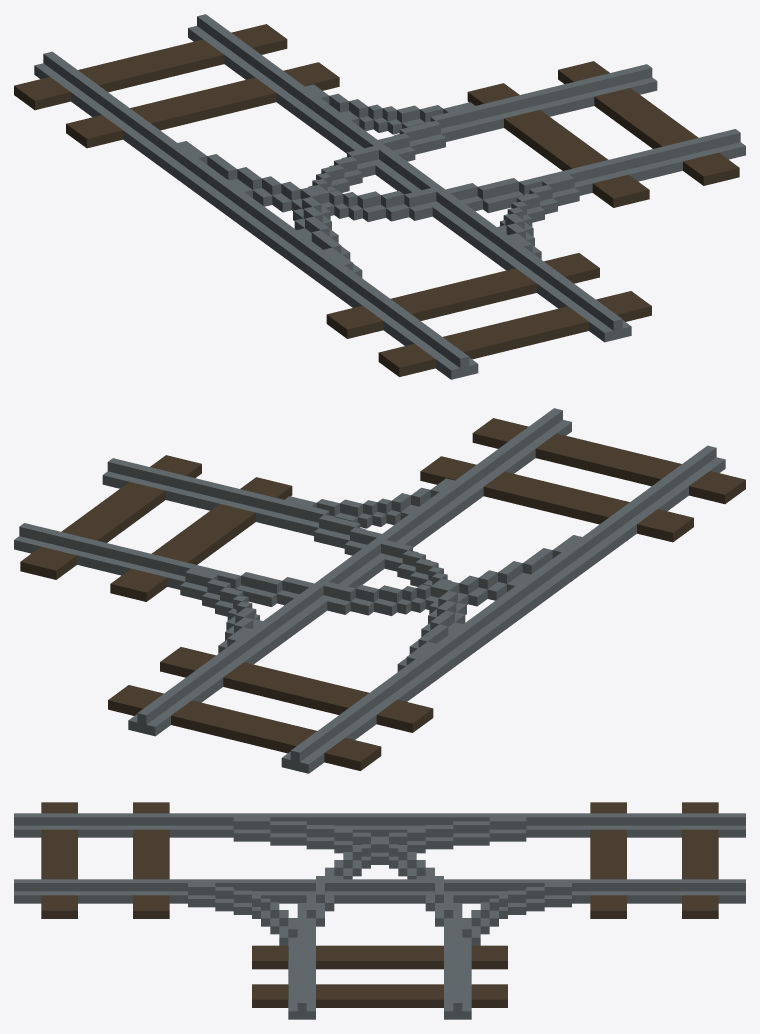
File: railway_t.obj
3 views of the same model, one above another, from view 1: azimuth 30°, elevation 25°; view 2: azimuth 150°, elevation 25°; view 3: azimuth 270°, elevation 25° (orthographic). The views are drawn at different scales.
Bounding box in the file's own units: 5.4 × 0.2 × 8.
1 material, 1 textured.
